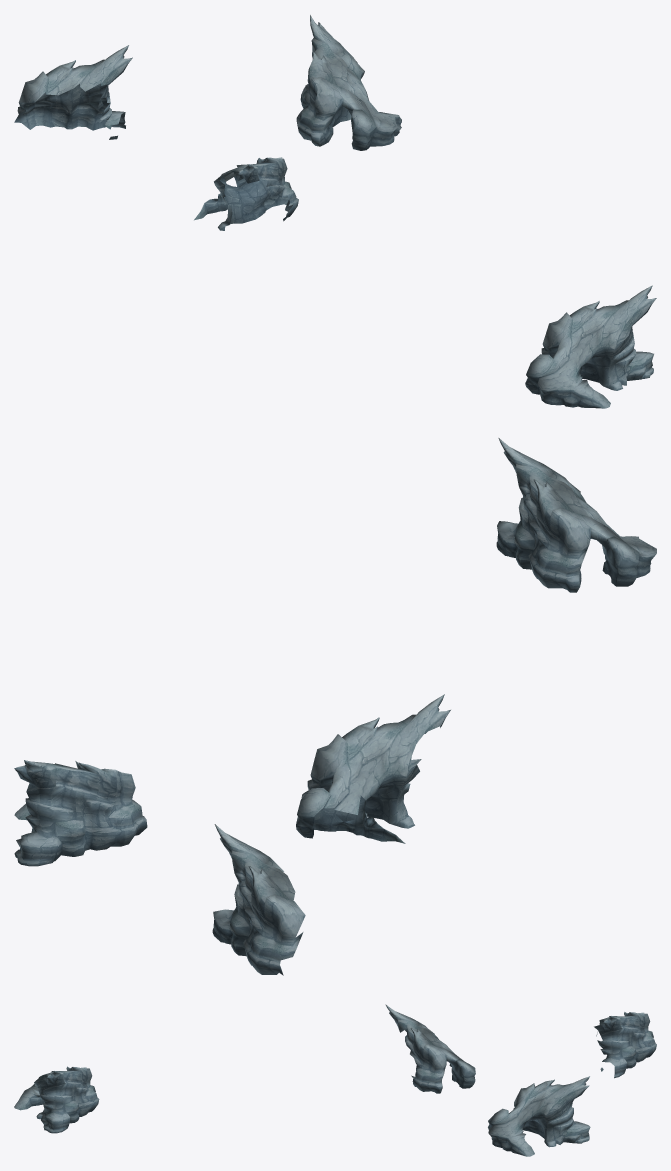
Rendered from yanshi9_1_1.fbx.
3 renders of one model, top to bottom at view 1: azimuth 30°, elevation 25°; view 2: azimuth 150°, elevation 25°; view 3: azimuth 270°, elevation 25°, orthographic. The views are drawn at different scales.
Visible parts, largest first — view 1: yanshi9_1_1; view 2: yanshi9_1_1; view 3: yanshi9_1_1.
Part boxes in pixels (x1,y1,x2,y2): yanshi9_1_1: [14, 15, 656, 408]; yanshi9_1_1: [14, 438, 656, 975]; yanshi9_1_1: [14, 1004, 656, 1156].
Bounding box in the file's own units: 3813 × 1043 × 9419.
